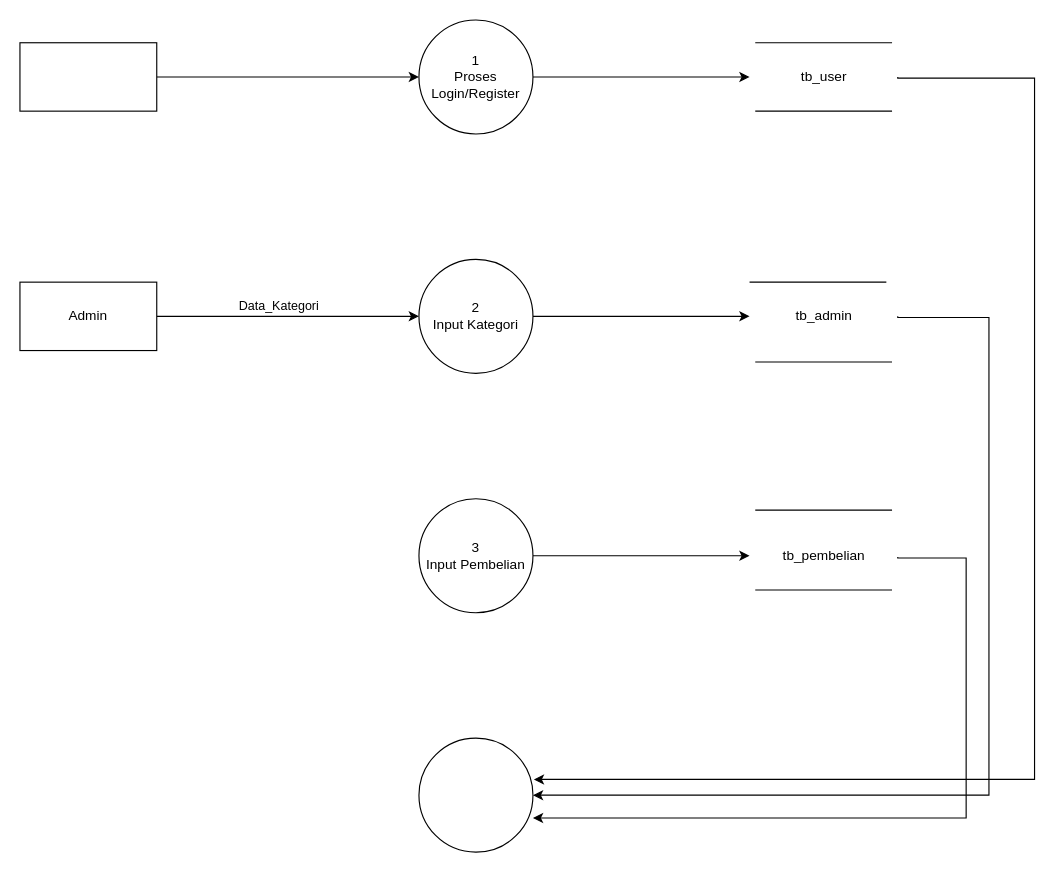
Image size: 1064x872. Some labels were removed from this diagram. Here are the shapes that lost their labels. From the top down, the centre of each, then its label:
At (88,76): "User".
At (475,794): "4 Semua Data SUdah DI-Inputkan".
